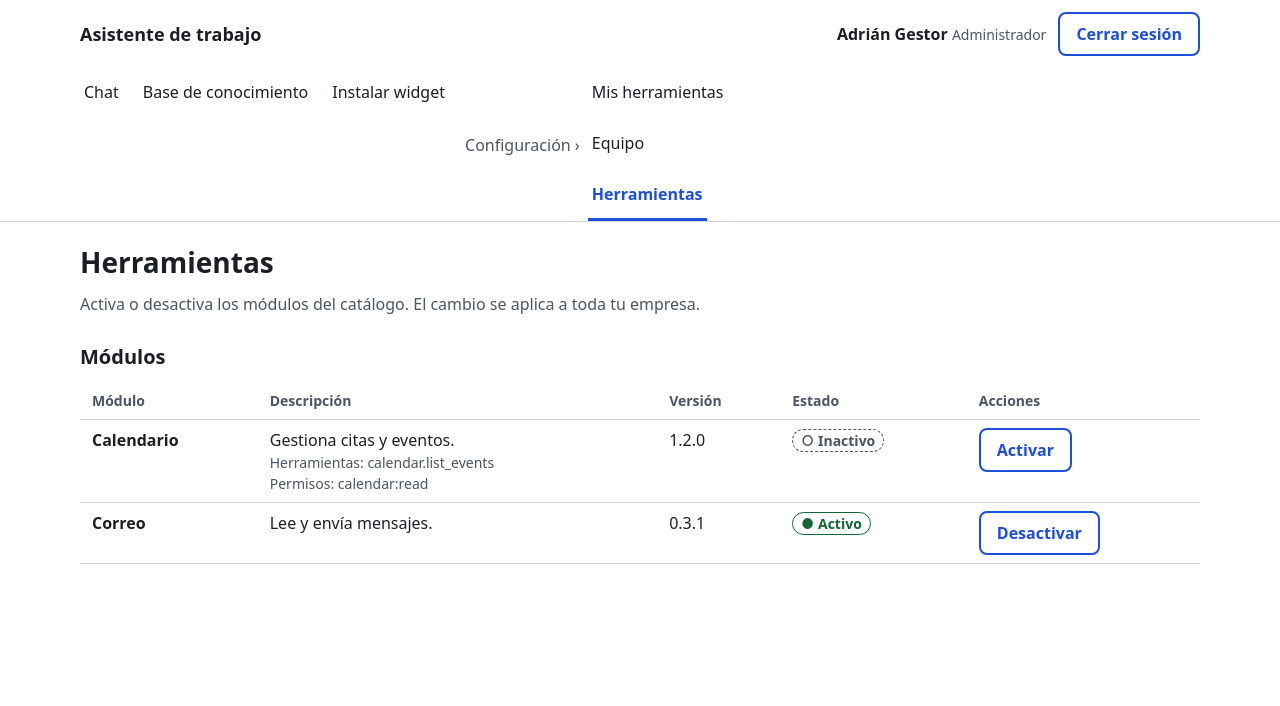
Test: ToolsPage: activating and deactivating › deactivates a module only after confirming
Expected: the table named "Módulos disponibles para tu empresa" is shown, [80,382,1200,564]
Step 1. Click the button named "Desactivar «Correo»" → (1039,533), box [979,511,1100,555]
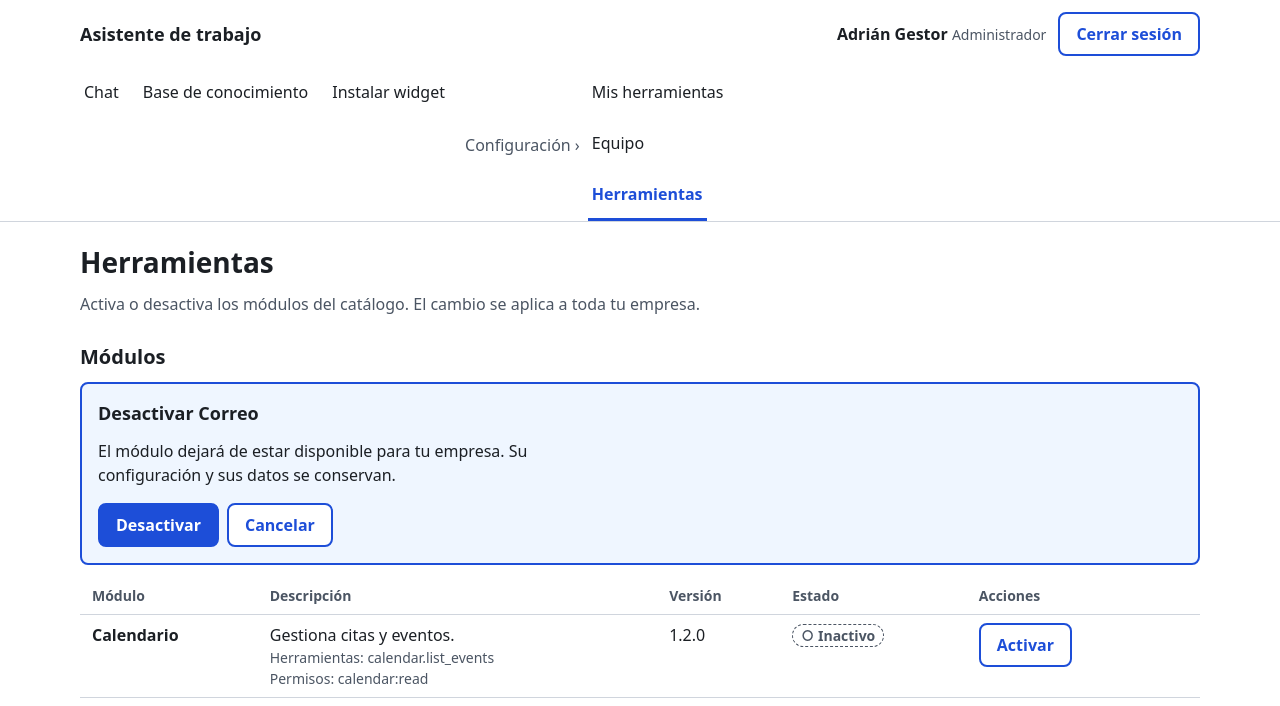
Step 2. Click the button "Desactivar" below "Desactivar Correo" → (158,525), box [98,503,219,547]
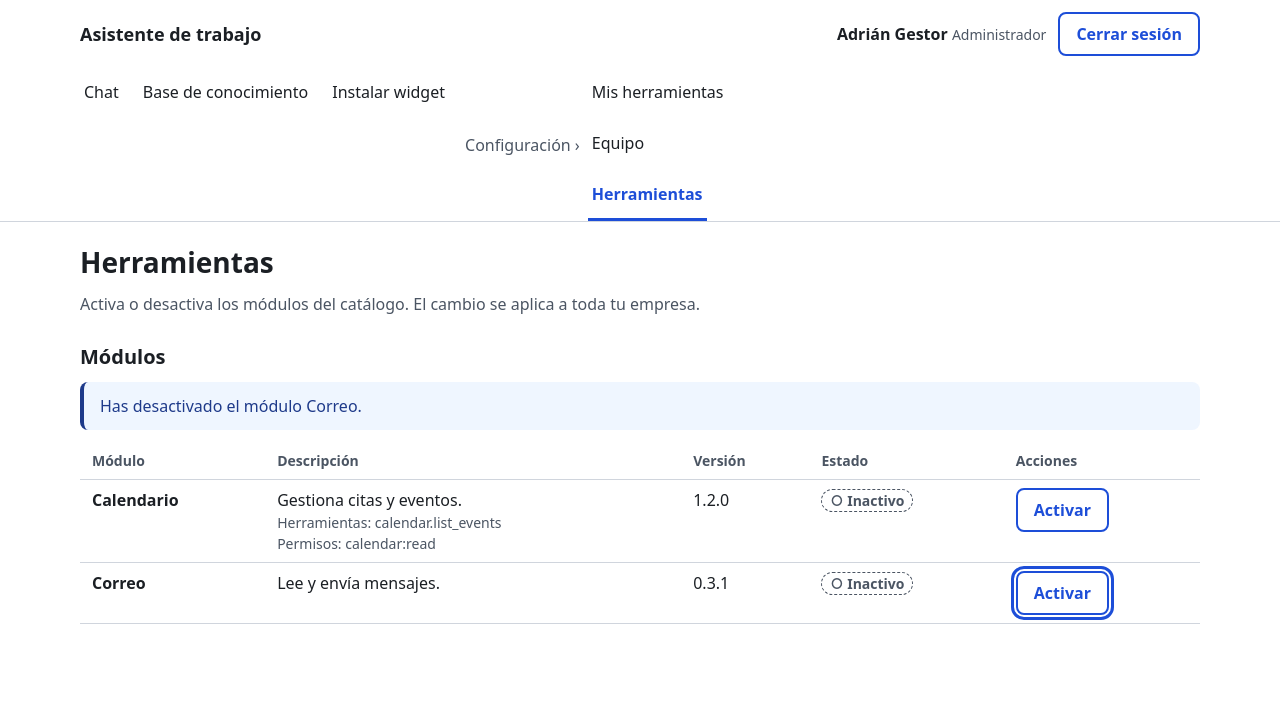
Expected: the text "Has desactivado el módulo Correo." is shown, [80,382,1200,430]
Expected: the cell "○ Inactivo" in the row of "Lee y envía mensajes." is shown, [847,574,904,593]
